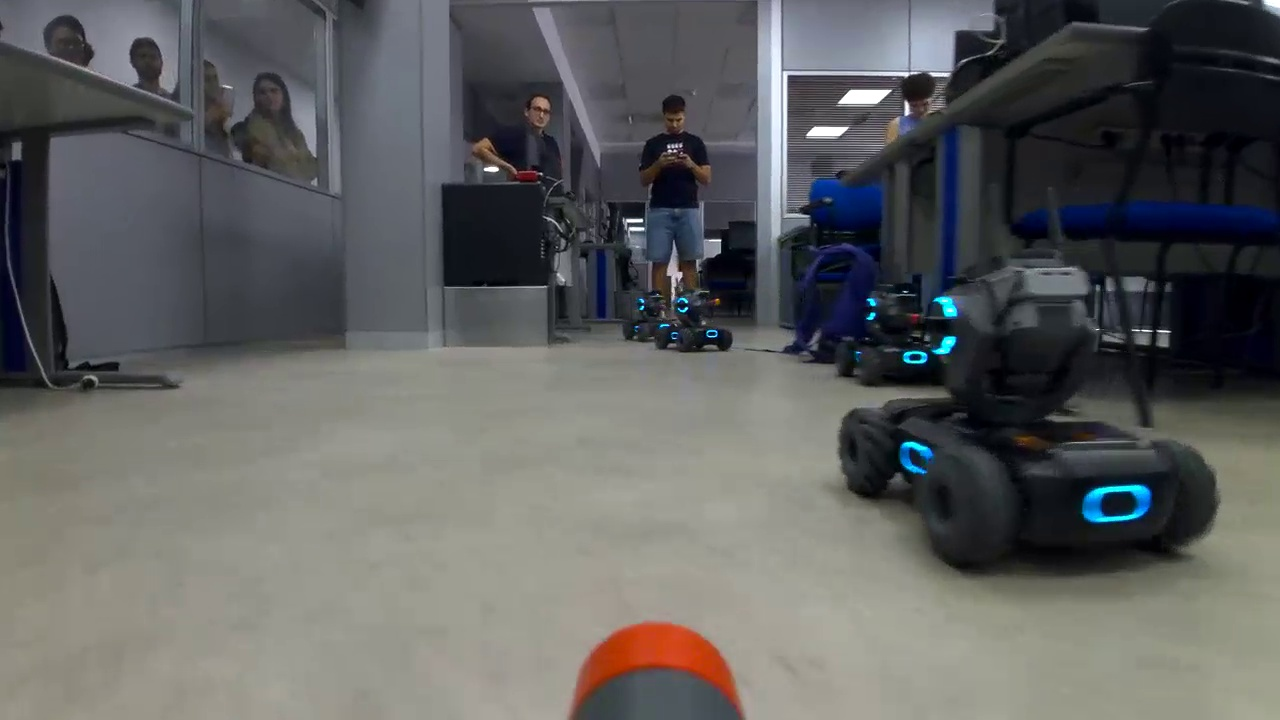robot: (833, 246, 1226, 576), (830, 278, 965, 389), (653, 289, 737, 355), (613, 288, 678, 343)
